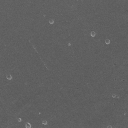corrosion: (46, 16, 56, 25), (89, 29, 97, 38), (5, 74, 13, 81), (16, 117, 23, 124), (25, 122, 33, 128), (104, 38, 110, 46)
